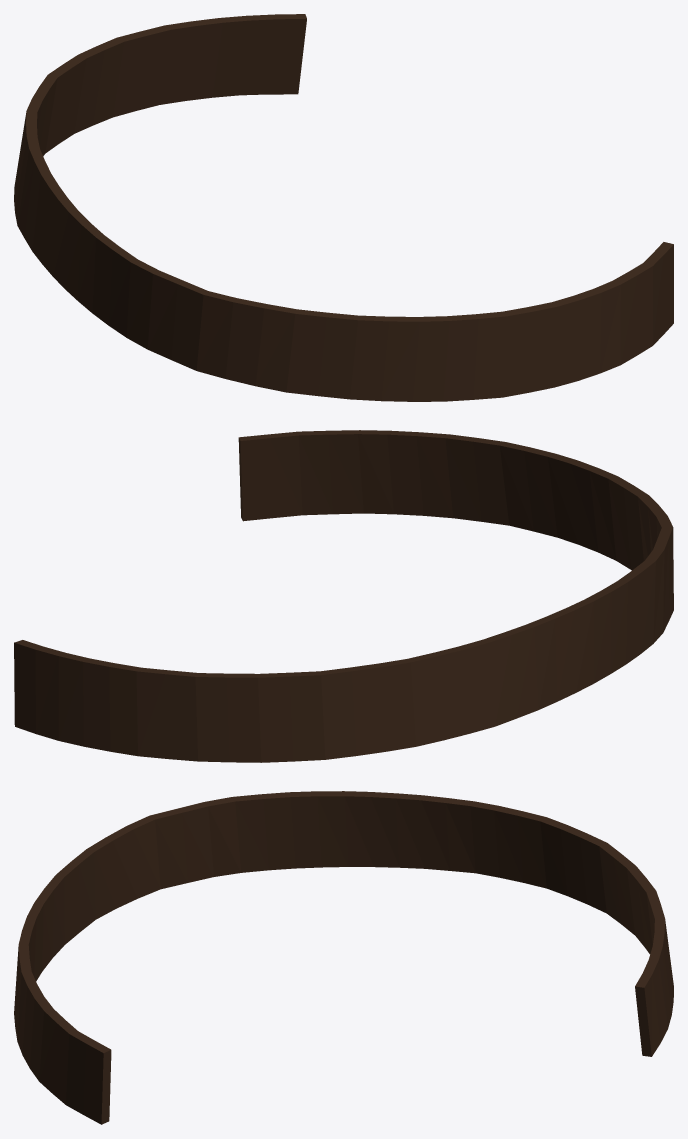
Rendered from Cincha_Arabe.glb.
3 renders of one model, top to bottom at view 1: azimuth 30°, elevation 25°; view 2: azimuth 150°, elevation 25°; view 3: azimuth 270°, elevation 25°, orthographic. The views are drawn at different scales.
Parts seen in each view (by area): view 1: Cincha_Arabe; view 2: Cincha_Arabe; view 3: Cincha_Arabe.
Part boxes in pixels (left/top/right/bottom): Cincha_Arabe: left=14, top=14, right=673, bottom=401; Cincha_Arabe: left=14, top=430, right=673, bottom=762; Cincha_Arabe: left=14, top=791, right=673, bottom=1124.
Bounding box in the file's own units: 0.4504 × 0.1217 × 0.5833.
